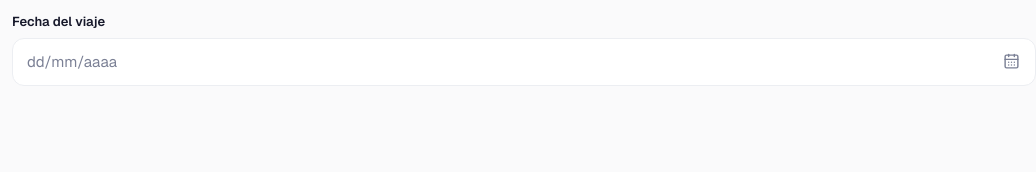
DateField › acepta la fecha escrita y la entrega en ISO en el campo oculto
Later steps or results of the test are not shown.
In the dropdown labelled "Fecha del viaje": (506, 62) [27,38,985,84], type "15122026"
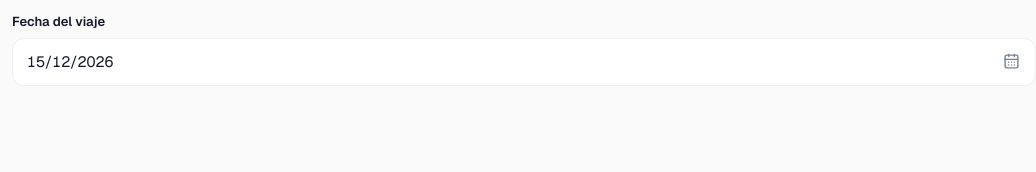
Expected: the dropdown labelled "Fecha del viaje" holds "15/12/2026", [27,38,985,84]
